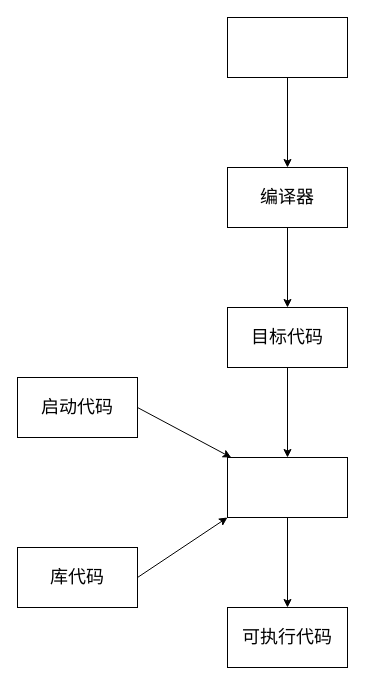
This 365x685 diagram has some shape labels left out. The centre of each missing label's shape, as x and y in pixels:
"源代码" goes at point (287, 47).
"链接程序" goes at point (287, 487).
